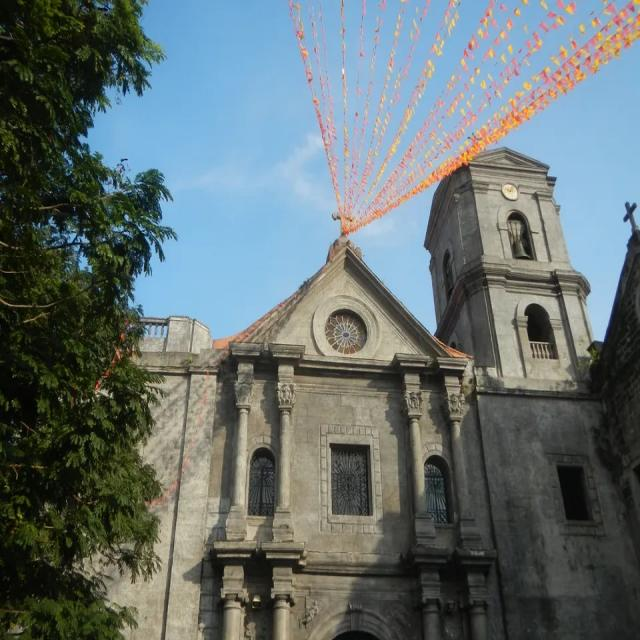San Agustin Church: (111, 140, 640, 640)
